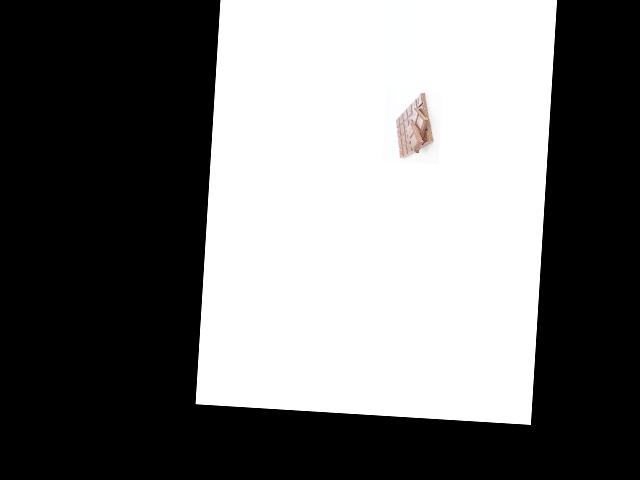chocolate: (390, 90, 439, 161)
